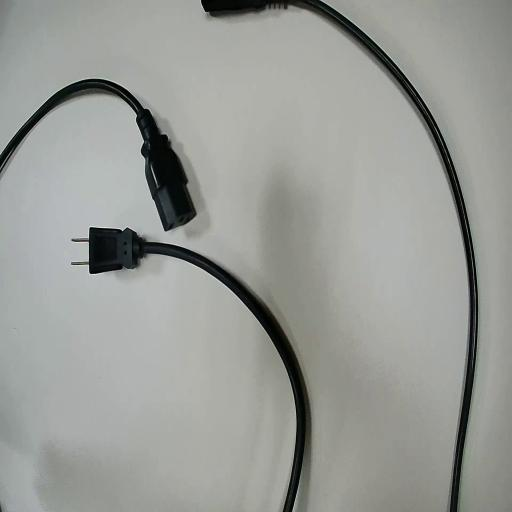wire: (202, 0, 476, 511), (89, 228, 309, 511), (0, 80, 194, 229)
